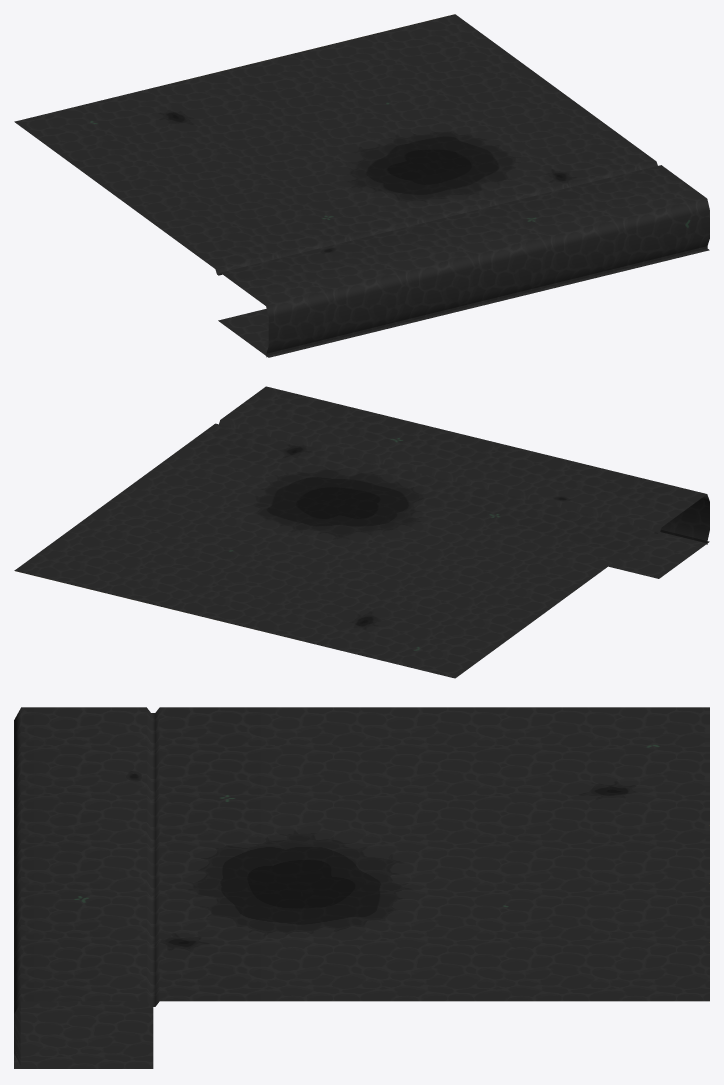
The model's file is calleVeredaLado1 1.fbx.
3 renders of one model, top to bottom at view 1: azimuth 30°, elevation 25°; view 2: azimuth 150°, elevation 25°; view 3: azimuth 270°, elevation 25°, orthographic. The views are drawn at different scales.
Parts seen in each view (by area): view 1: VeredaLado1; view 2: VeredaLado1; view 3: VeredaLado1.
Part boxes in pixels (left/top/right/bottom): VeredaLado1: left=14, top=14, right=709, bottom=357; VeredaLado1: left=14, top=386, right=709, bottom=678; VeredaLado1: left=14, top=707, right=709, bottom=1068.
Size of the model in its own units: 5 by 0.5506 by 5.
